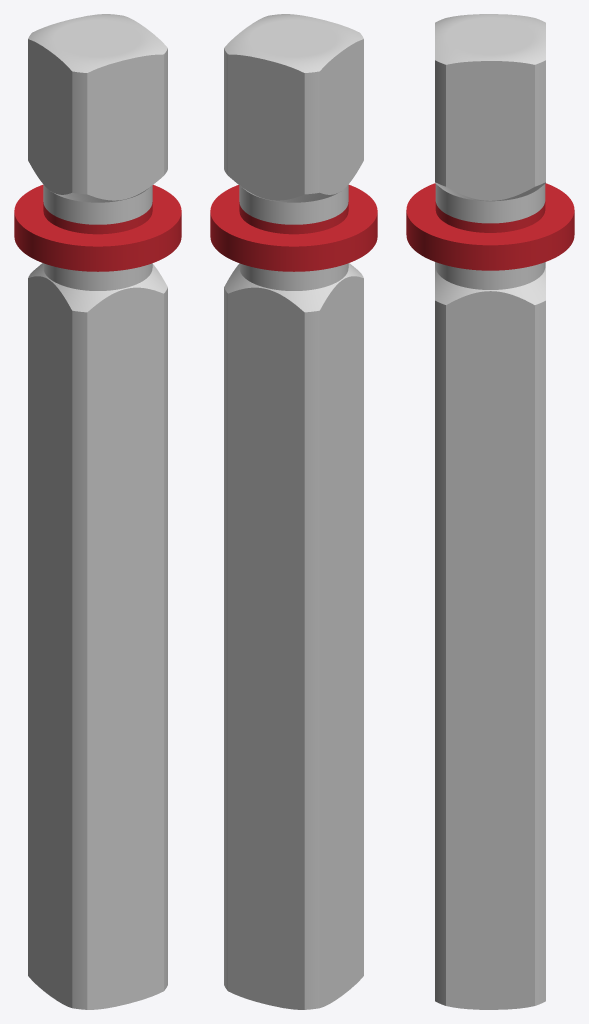
3 renders of one model, left to right at view 1: azimuth 30°, elevation 25°; view 2: azimuth 150°, elevation 25°; view 3: azimuth 270°, elevation 25°, orthographic.
Parts seen in each view (by area): view 1: NAUO1, NAUO2; view 2: NAUO1, NAUO2; view 3: NAUO1, NAUO2.
Boxes of the visible parts, bbox=[...] form: NAUO1: bbox=[28, 14, 167, 1009]; NAUO2: bbox=[14, 185, 181, 271]; NAUO1: bbox=[224, 14, 363, 1009]; NAUO2: bbox=[210, 185, 377, 271]; NAUO1: bbox=[435, 14, 545, 1009]; NAUO2: bbox=[406, 183, 574, 270].
Bounding box in the file's own units: 0.0048 × 0.03 × 0.0048.
